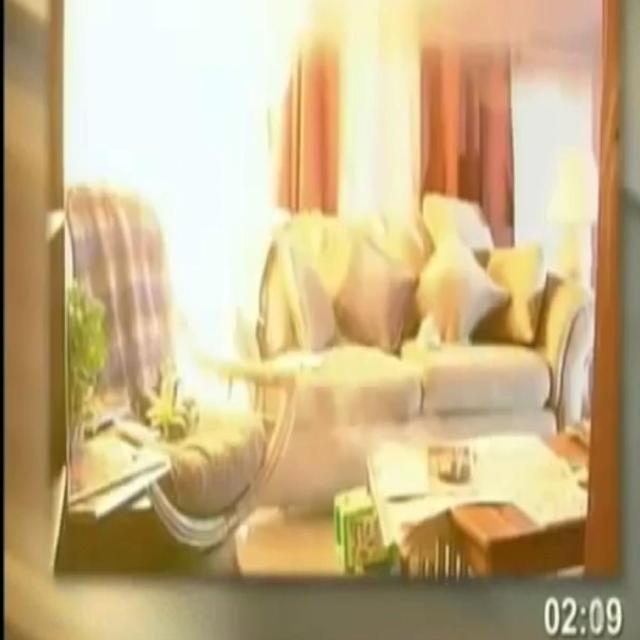fire: (408, 0, 602, 66)
smoke: (65, 0, 322, 429)
